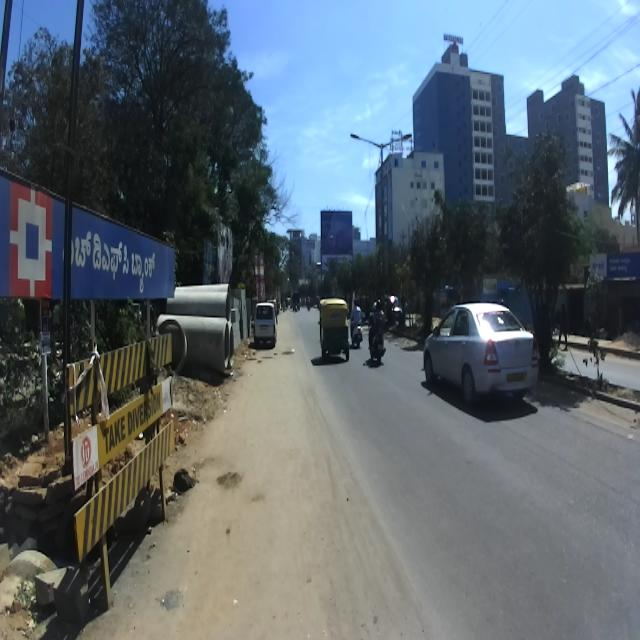auto ahead at: (316, 296, 353, 365)
motorcycle ahead at: (422, 298, 540, 404)
